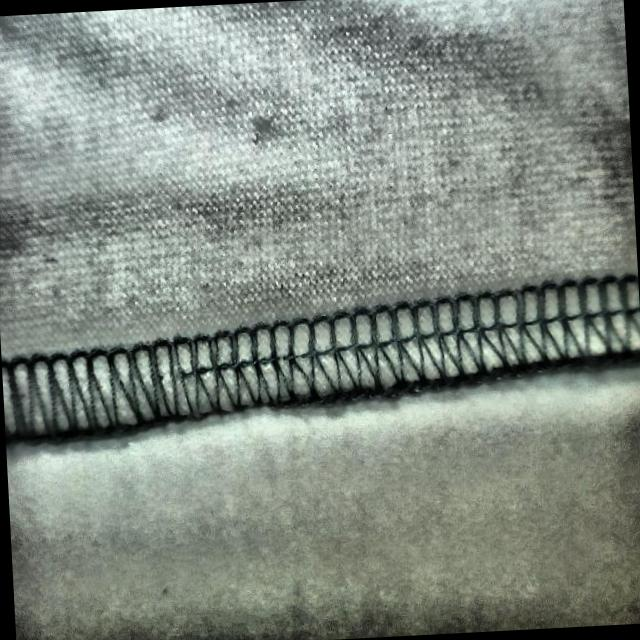gray stitch: (0, 302, 378, 448)
